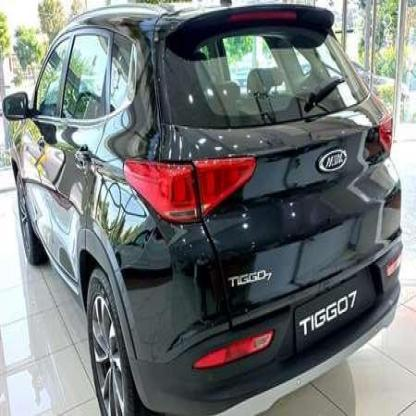Car: (11, 5, 405, 416)
